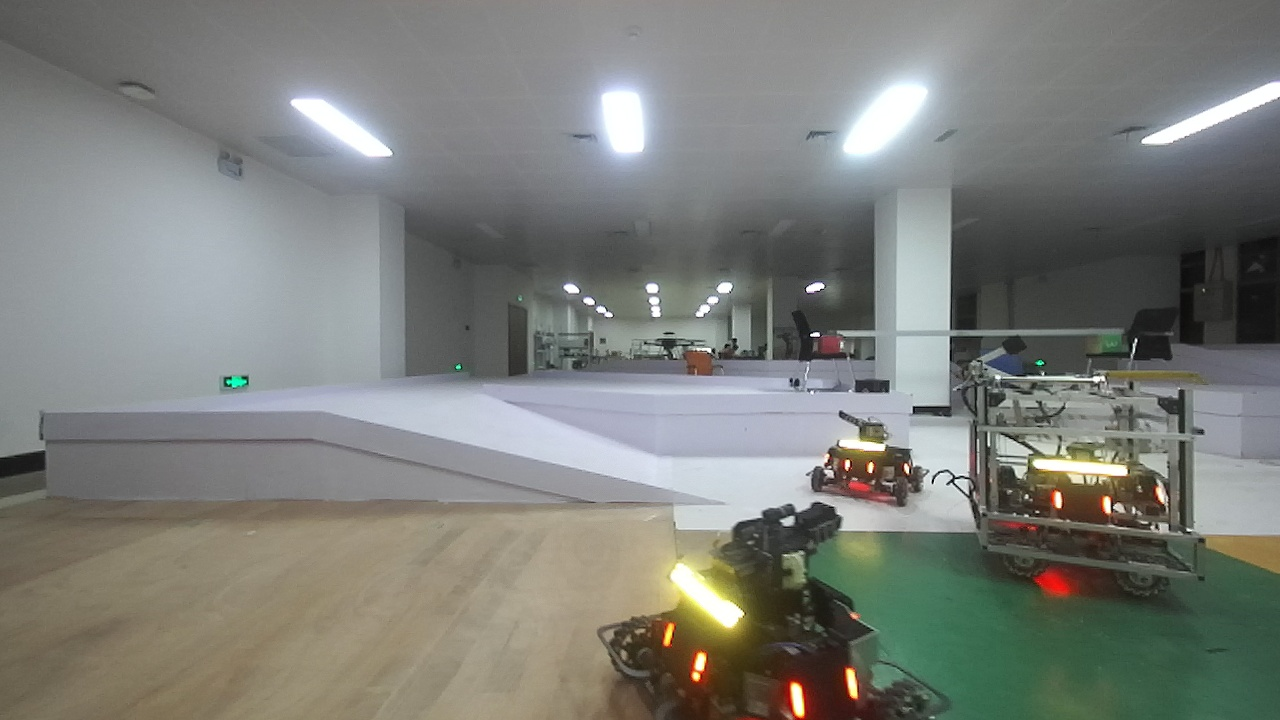car: (574, 501, 943, 707), (943, 348, 1217, 596), (802, 393, 943, 509)
